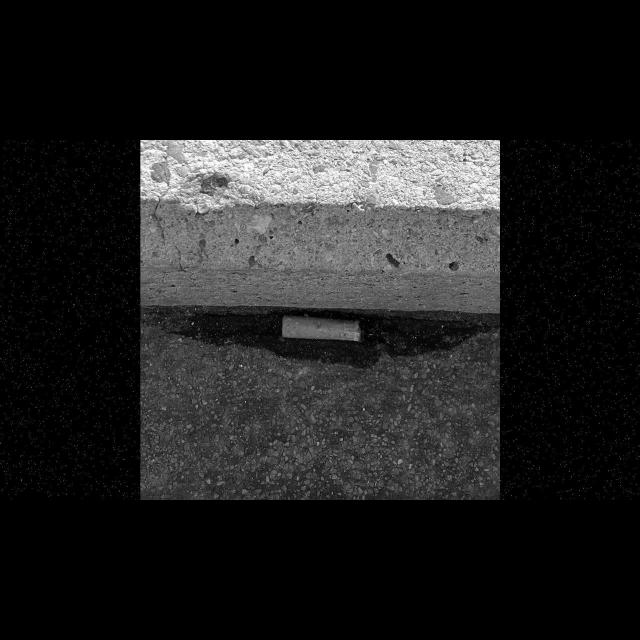cigarette: (281, 315, 367, 344)
